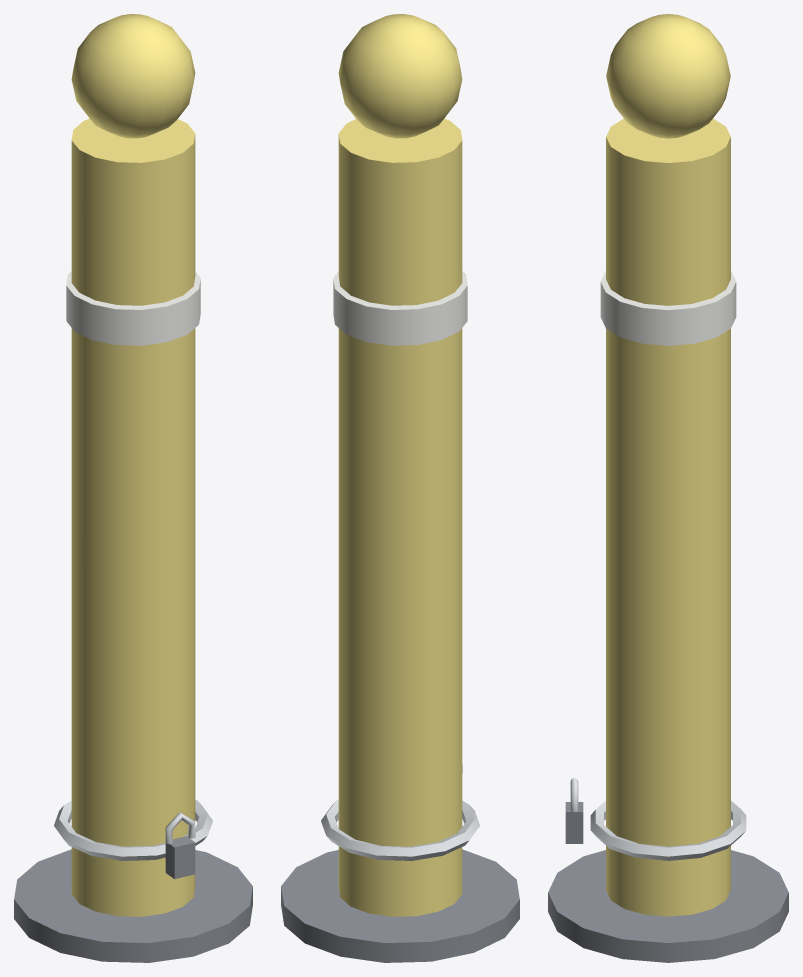
Rendered from Bollard_Removable.fbx.
3 views of the same model, side by side, from view 1: azimuth 30°, elevation 25°; view 2: azimuth 150°, elevation 25°; view 3: azimuth 270°, elevation 25° (orthographic).
Visible parts, largest first — view 1: LOD0; view 2: LOD0; view 3: LOD0.
Part boxes in pixels (x1,y1,x2,y2): LOD0: [14, 14, 252, 962]; LOD0: [281, 14, 519, 962]; LOD0: [548, 14, 788, 962].
Size of what is drawn, in the model's own units: 22 by 90 by 22.
